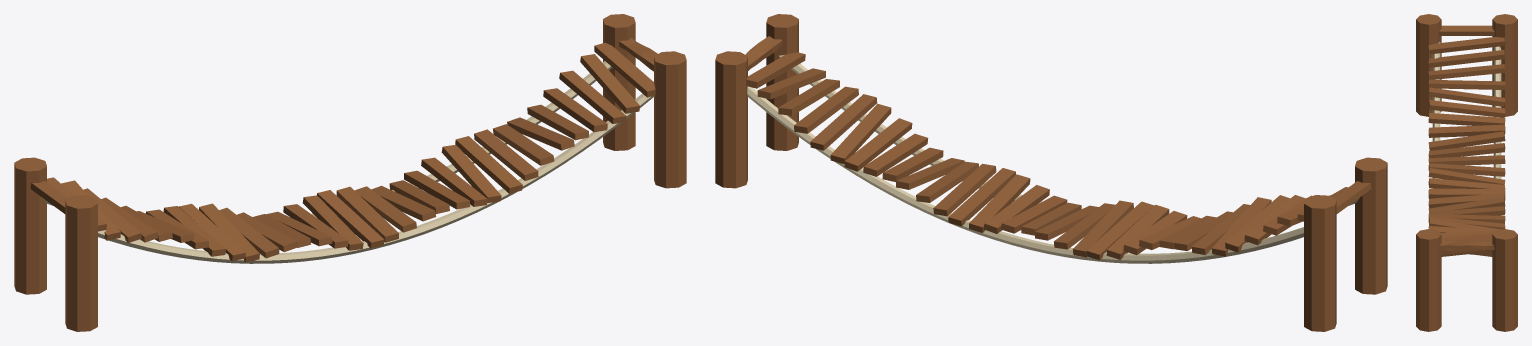
Rendered from rope-bridge.glb.
The picture shows the model from 3 angles, left to right: view 1: azimuth 30°, elevation 25°; view 2: azimuth 150°, elevation 25°; view 3: azimuth 270°, elevation 25°; orthographic projection. The views are drawn at different scales.
Visible parts, largest first — view 1: Rope_Support_Right, Post_1, Post_3, Post_0, Post_2, Plank_25, Plank_32, Plank_17, Plank_33, Plank_31, Plank_26, Plank_24 (+26 smaller); view 2: Rope_Support_Left, Post_0, Post_2, Post_1, Post_3, Plank_28, Plank_21, Plank_29, Plank_27, Plank_22, Plank_20, Plank_30 (+26 smaller); view 3: Post_2, Post_3, Post_1, Post_0, Plank_1, Plank_9, Plank_6, Plank_8, Plank_7, Plank_2, Plank_5, Plank_3 (+23 smaller).
Boxes of the visible parts, <box> form: Rope_Support_Right: <box>98,93,654,263</box>; Post_1: <box>65,195,97,331</box>; Post_3: <box>654,51,686,188</box>; Post_0: <box>14,157,46,294</box>; Post_2: <box>603,14,635,150</box>; Plank_25: <box>455,136,522,193</box>; Plank_32: <box>580,54,639,113</box>; Plank_17: <box>317,190,384,248</box>; Plank_33: <box>594,42,655,97</box>; Plank_31: <box>559,70,626,123</box>; Plank_26: <box>474,129,538,180</box>; Plank_24: <box>441,145,501,203</box>; Rope_Support_Left: <box>747,86,1303,263</box>; Post_0: <box>1304,195,1336,331</box>; Post_2: <box>715,51,747,188</box>; Post_1: <box>1355,157,1387,294</box>; Post_3: <box>766,14,798,150</box>; Plank_28: <box>830,103,891,164</box>; Plank_21: <box>948,168,1015,226</box>; Plank_29: <box>810,94,877,150</box>; Plank_27: <box>844,118,912,171</box>; Plank_22: <box>933,163,996,216</box>; Plank_20: <box>969,174,1030,232</box>; Plank_30: <box>794,86,858,133</box>; Post_2: <box>1492,229,1517,331</box>; Post_3: <box>1416,229,1441,331</box>; Post_1: <box>1416,14,1441,116</box>; Post_0: <box>1492,14,1517,116</box>; Plank_1: <box>1428,36,1505,54</box>; Plank_9: <box>1428,131,1505,150</box>; Plank_6: <box>1428,100,1505,117</box>; Plank_8: <box>1428,124,1505,137</box>; Plank_7: <box>1428,113,1505,125</box>; Plank_2: <box>1428,50,1505,67</box>; Plank_5: <box>1428,87,1505,106</box>; Plank_3: <box>1428,64,1505,79</box>.
Size of the model in its own units: 21 by 4 by 4.
